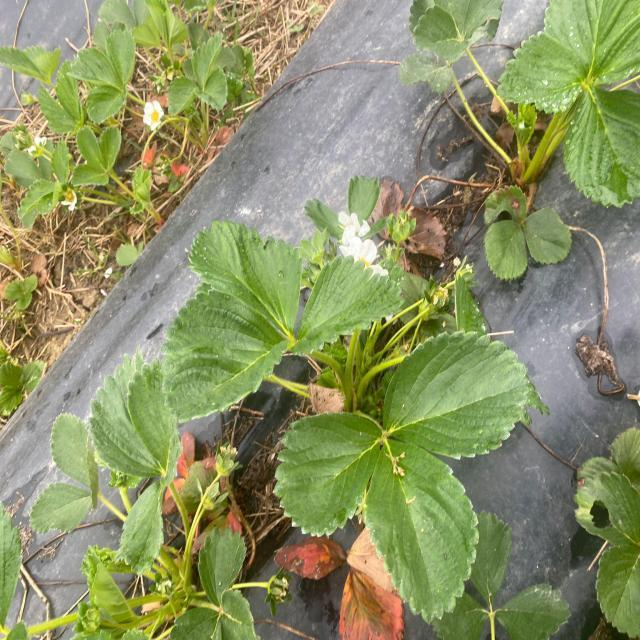flower: (336, 236, 391, 286), (336, 207, 383, 240), (141, 96, 168, 136), (23, 136, 53, 160), (56, 188, 80, 212)
